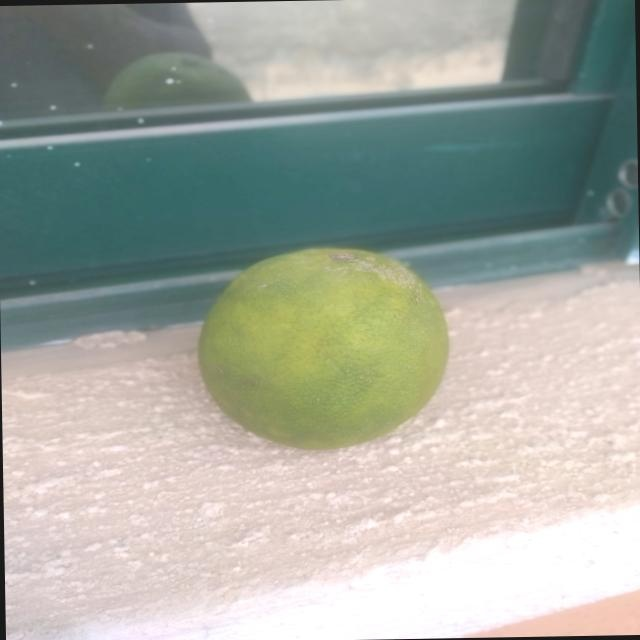agrume: (195, 226, 478, 462)
